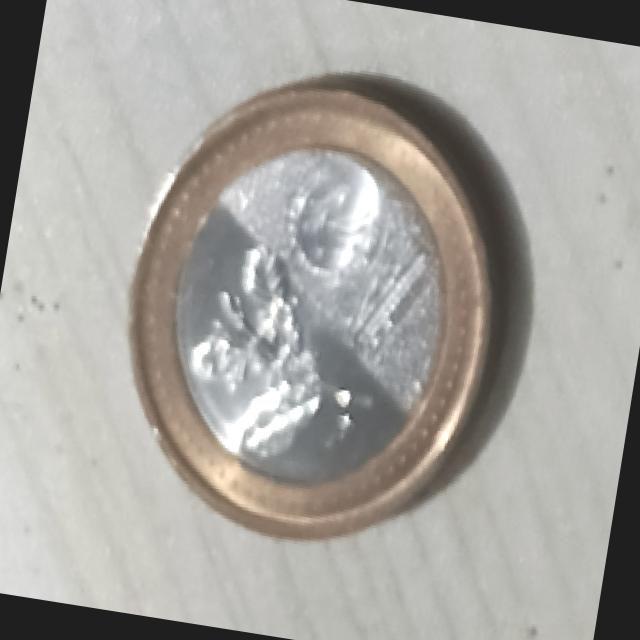20_peso: (129, 81, 493, 535)
